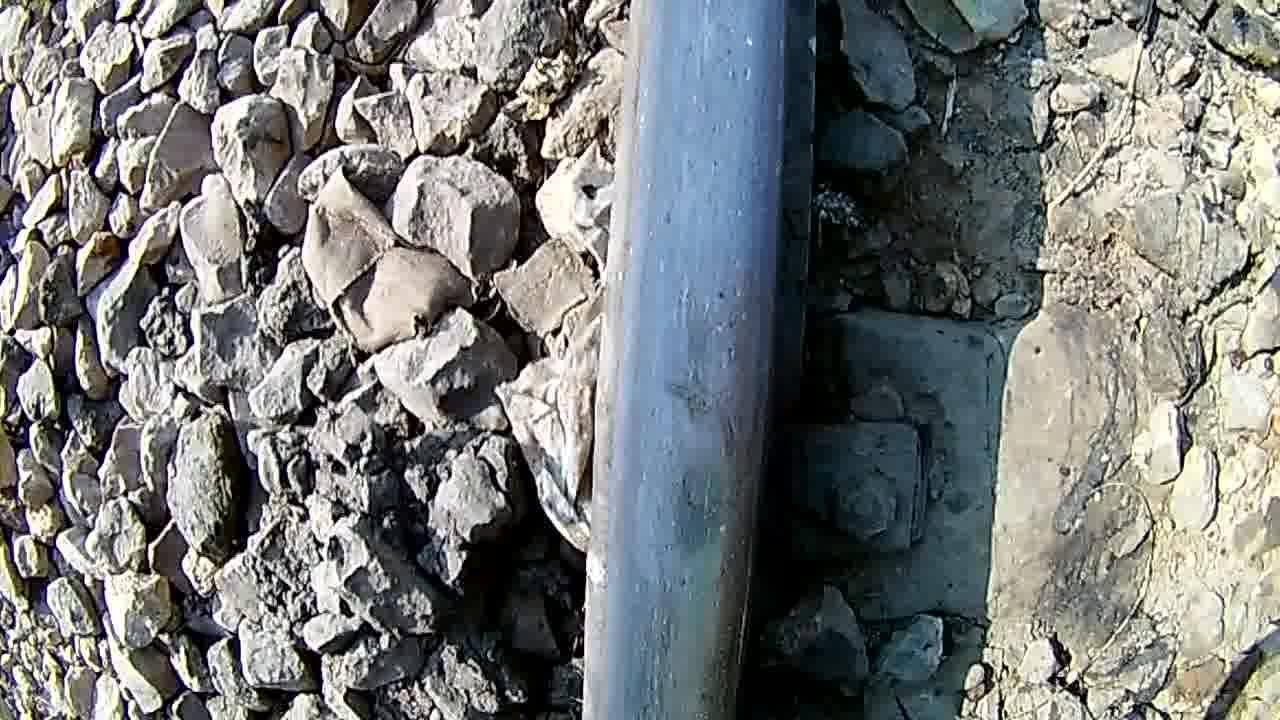bolt_missing: (628, 252, 787, 620)
